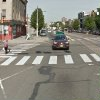crosswalk: (1, 54, 99, 64)
